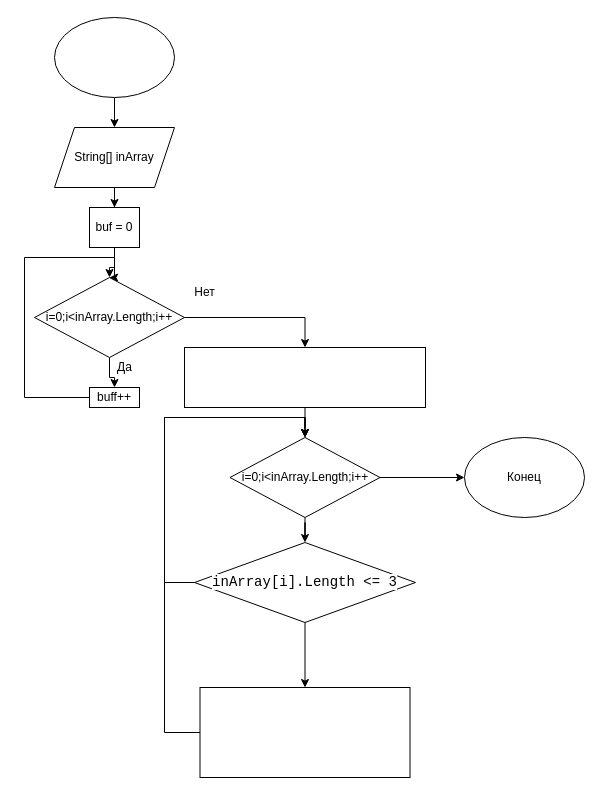
The diagram is 602 pixels wide and 795 high, and some of its shapes have lost their labels. The centre of each missing label's shape, as x and y in pixels:
"EndArray[buf] = inArray[i]; buf++; Write(inArray[i]);" goes at point 304,732.
"string[] EndArray = new string[buf]; buf = 0;" goes at point 305,377.
"Вход в метод" goes at point 114,57.
